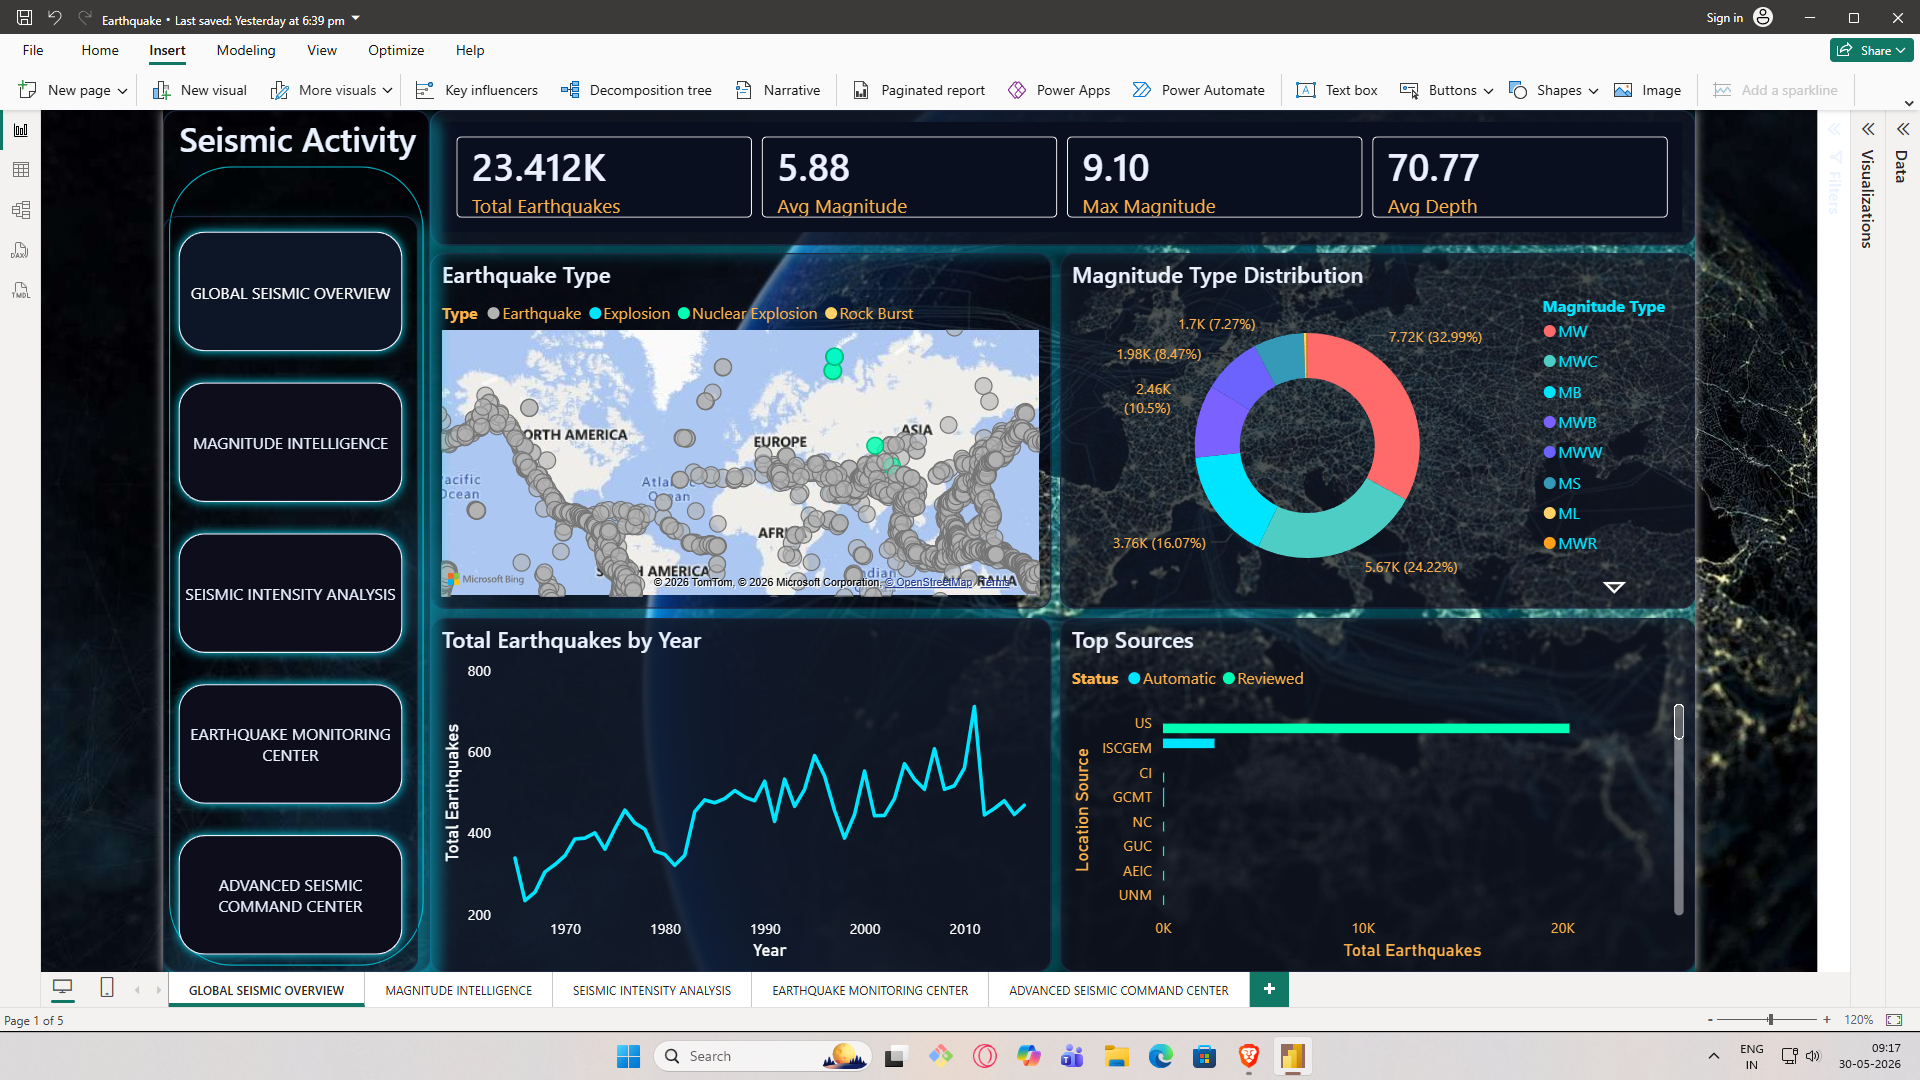

Layout of this report page (visuals, bound fields, positions):
{"tool":"powerbi","page":{"name":"GLOBAL SEISMIC OVERVIEW","canvas":[1280,720],"ordinal":0},"visuals":[{"type":"cardVisual","fields":{"Data":["earthquake.Total Earthquakes","earthquake.Average Magnitude","earthquake.Maximum Magnitude","earthquake.Average Depth"]},"box":[222.7,0,1057.3,112.8],"z":0},{"type":"map","title":"Earthquake Type","fields":{"X":["earthquake.Longitude"],"Size":["Avg(earthquake.Magnitude)"],"Series":["earthquake.Type"],"Y":["earthquake.Latitude"]},"box":[222.7,119.6,519.4,296.7],"z":1000},{"type":"lineChart","fields":{"Y":["earthquake.Total Earthquakes"],"Category":["earthquake.Year"]},"box":[222.7,424.1,519.4,295.7],"z":2000},{"type":"donutChart","title":"Magnitude Type Distribution","fields":{"Y":["earthquake.Total Earthquakes"],"Category":["earthquake.Magnitude Type"]},"box":[748.9,119.6,531.1,296.7],"z":3000},{"type":"clusteredBarChart","title":"Top Sources","fields":{"Y":["earthquake.Total Earthquakes"],"Category":["earthquake.Location Source"],"Series":["earthquake.Status"]},"box":[748.9,424.1,531.1,295.7],"z":4000},{"type":"shape","title":"Seismic Activity","box":[0,0,222.7,719.8],"z":4001},{"type":"pageNavigator","box":[0,88.5,213,631.2],"z":4002}]}

Visuals, with their boxes on the page's 1280x720 design canvas (x1, y1, x2, y2). These are canvas units, not pixel positions in the 1920x1080 screenshot, which may show the page scaled, cropped or inside an application window:
cardVisual - earthquake.Total Earthquakes x earthquake.Average Magnitude: (left=223, top=0, right=1280, bottom=113)
"Earthquake Type" map: (left=223, top=120, right=742, bottom=416)
lineChart - earthquake.Total Earthquakes x earthquake.Year: (left=223, top=424, right=742, bottom=720)
"Magnitude Type Distribution" donutChart: (left=749, top=120, right=1280, bottom=416)
"Top Sources" clusteredBarChart: (left=749, top=424, right=1280, bottom=720)
"Seismic Activity" shape: (left=0, top=0, right=223, bottom=720)
pageNavigator: (left=0, top=88, right=213, bottom=720)
